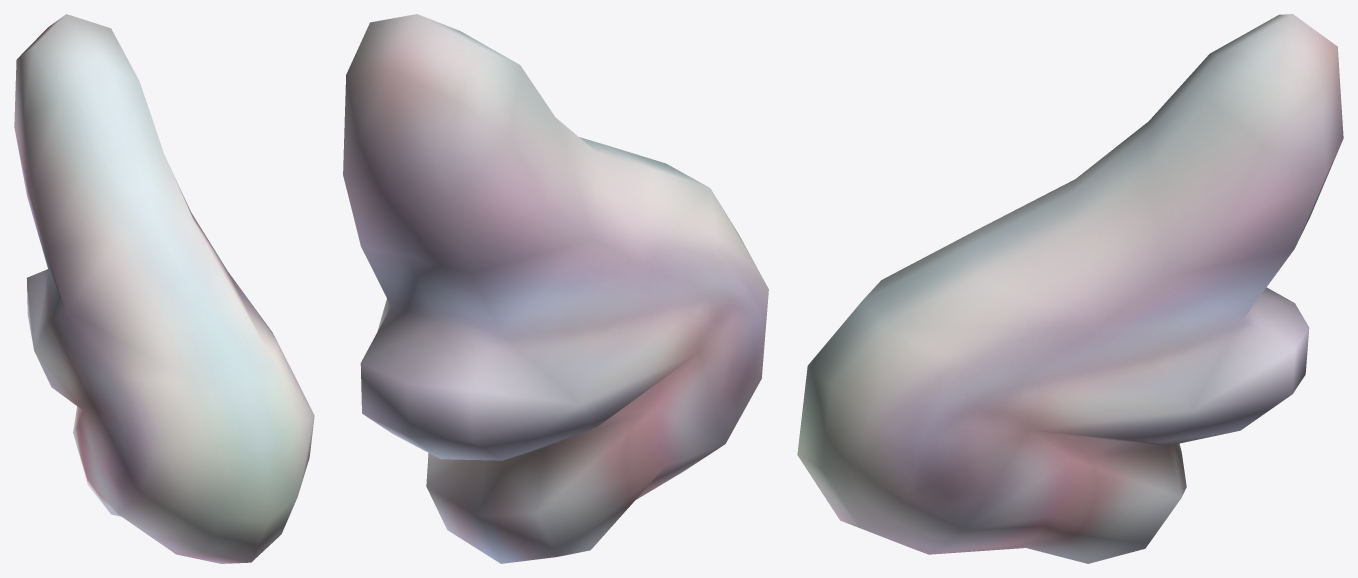
Rendered from scenes_common_fly01.FBX.
3 renders of one model, left to right at view 1: azimuth 30°, elevation 25°; view 2: azimuth 150°, elevation 25°; view 3: azimuth 270°, elevation 25°, orthographic. The views are drawn at different scales.
Parts seen in each view (by area): view 1: scenes_common_fly01; view 2: scenes_common_fly01; view 3: scenes_common_fly01.
Part boxes in pixels (left/top/right/bottom): scenes_common_fly01: left=14, top=14, right=314, bottom=563; scenes_common_fly01: left=343, top=14, right=768, bottom=563; scenes_common_fly01: left=797, top=14, right=1343, bottom=563.
Size of the model in its own units: 37.64 by 87.14 by 79.19.
